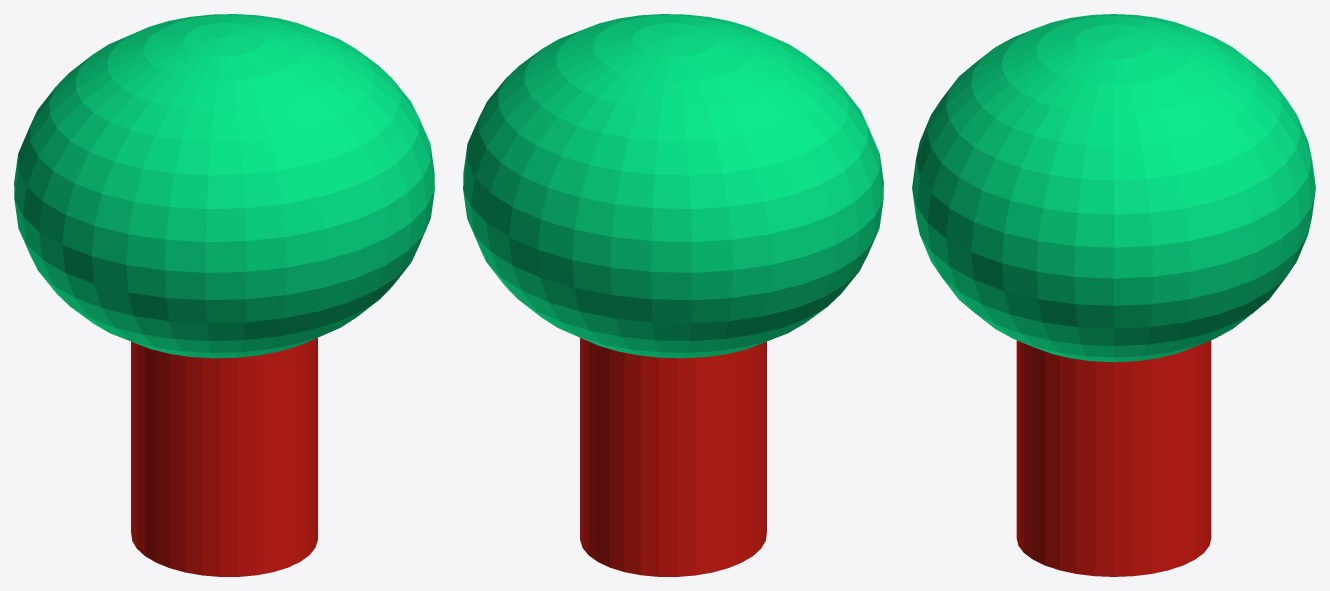
Rendered from 毒キノコ.fbx.
3 renders of one model, left to right at view 1: azimuth 30°, elevation 25°; view 2: azimuth 150°, elevation 25°; view 3: azimuth 270°, elevation 25°, orthographic.
Visible parts, largest first — view 1: Sphere, Cylinder; view 2: Sphere, Cylinder; view 3: Sphere, Cylinder.
Part boxes in pixels (<box>): Sphere: <box>14,14,434,358</box>; Cylinder: <box>131,338,317,576</box>; Sphere: <box>463,14,883,358</box>; Cylinder: <box>580,338,766,576</box>; Sphere: <box>912,14,1315,362</box>; Cylinder: <box>1016,340,1211,576</box>.
Bounding box in the file's own units: 330 × 424 × 311.
